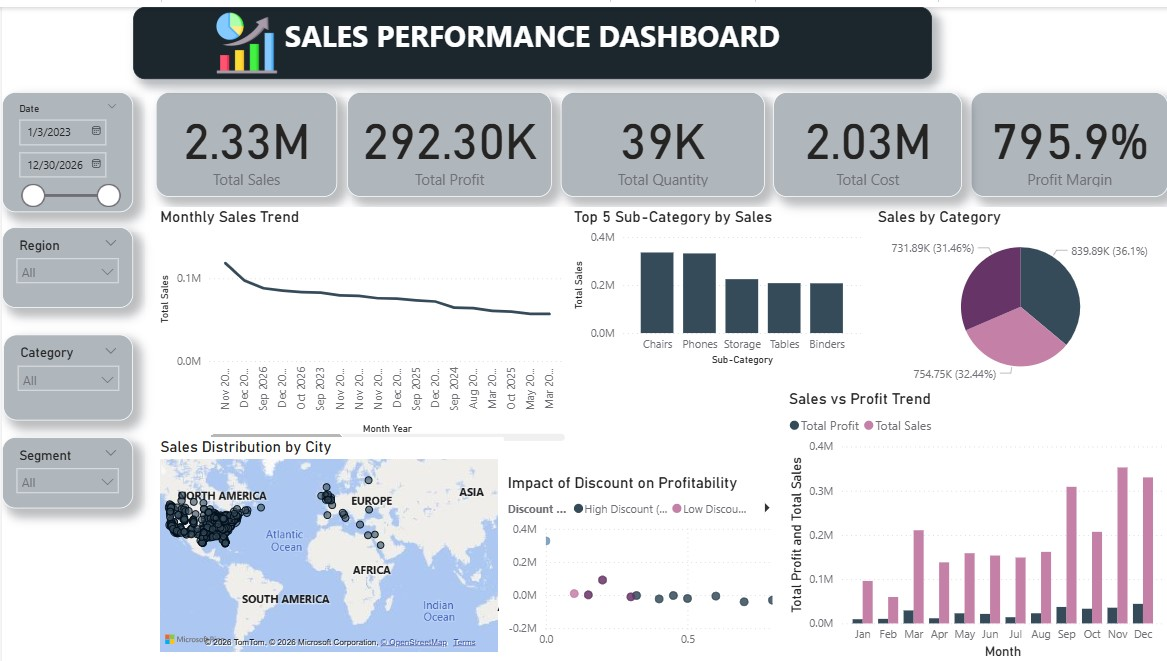

This screenshot's page, from the dashboard's own definition file:
{"tool":"powerbi","page":{"name":"Page 1","canvas":[1280,720],"ordinal":0},"visuals":[{"type":"card","fields":{"Values":["samplesuperstore (2).Total Sales"]},"box":[168.8,93.3,199,115.3],"z":0},{"type":"card","fields":{"Values":["samplesuperstore (2).Total Profit"]},"box":[378.7,93.3,225,115.3],"z":1000},{"type":"card","fields":{"Values":["Sales Data.Total Quantity"]},"box":[613.4,93.3,223.7,115.3],"z":2000},{"type":"card","fields":{"Values":["samplesuperstore (2).Profi Margin"]},"box":[1063.5,93.3,216.8,115.3],"z":3000},{"type":"pieChart","title":"Sales by Category","fields":{"Category":["samplesuperstore (2).Category"],"Y":["samplesuperstore (2).Total Sales"]},"box":[956.4,219.6,323.8,200.3],"z":4000},{"type":"lineChart","title":"Monthly Sales Trend","fields":{"Category":["Date Table.Month Year"],"Y":["samplesuperstore (2).Total Sales"]},"box":[168.8,219.6,454.2,262.1],"z":5000},{"type":"textbox","box":[144.1,0,876.8,79.6],"z":6000},{"type":"slicer","fields":{"Values":["samplesuperstore (2).Order Date"]},"box":[0,93.3,144.1,131.7],"z":7000},{"type":"image","box":[215.4,0,107,79.6],"z":8000},{"type":"slicer","fields":{"Values":["samplesuperstore (2).Region"]},"box":[0,241.5,144.1,89.2],"z":9000},{"type":"slicer","fields":{"Values":["samplesuperstore (2).Category"]},"box":[1.4,359.5,142.7,94.7],"z":10000},{"type":"slicer","fields":{"Values":["samplesuperstore (2).Segment"]},"box":[0,472,144.1,78.2],"z":11000},{"type":"clusteredColumnChart","title":"Top 5 Sub-Category by Sales","fields":{"Category":["samplesuperstore (2).Sub-Category"],"Y":["samplesuperstore (2).Total Sales"]},"box":[623,219.6,325.2,178.4],"z":12000},{"type":"map","title":"Sales Distribution by City","fields":{"Size":["samplesuperstore (2).Total Profit"],"Category":["samplesuperstore (2).City"]},"box":[168.6,471.4,381.4,241.4],"z":13000},{"type":"card","fields":{"Values":["Sales Data.Total Cost"]},"box":[846.7,93.3,207.2,115.3],"z":14000},{"type":"clusteredColumnChart","title":"Sales vs Profit Trend","fields":{"Category":["Date Table.Month"],"Y":["Sales Data.Total Profit","Sales Data.Total Sales"]},"box":[859,419.9,421.3,300.5],"z":15000},{"type":"scatterChart","title":"Impact of Discount on Profitability","fields":{"X":["Sales Data.Discount"],"Series":["Sales Data.Discount Group"],"Y":["Sales Data.Total Profit"]},"box":[550.3,511.8,308.7,200.3],"z":16000}]}

Visuals, with their boxes in screenshot pixels (x1, y1, x2, y2), scaled from the page's 1280x720 canvas onto the 1167x661 screenshot:
card - samplesuperstore (2).Total Sales: left=154, top=86, right=335, bottom=192
card - samplesuperstore (2).Total Profit: left=345, top=86, right=550, bottom=192
card - Sales Data.Total Quantity: left=559, top=86, right=763, bottom=192
card - samplesuperstore (2).Profi Margin: left=970, top=86, right=1166, bottom=192
"Sales by Category" pieChart: left=872, top=202, right=1166, bottom=385
"Monthly Sales Trend" lineChart: left=154, top=202, right=568, bottom=442
textbox: left=131, top=0, right=931, bottom=73
slicer - samplesuperstore (2).Order Date: left=0, top=86, right=131, bottom=207
image: left=196, top=0, right=294, bottom=73
slicer - samplesuperstore (2).Region: left=0, top=222, right=131, bottom=304
slicer - samplesuperstore (2).Category: left=1, top=330, right=131, bottom=417
slicer - samplesuperstore (2).Segment: left=0, top=433, right=131, bottom=505
"Top 5 Sub-Category by Sales" clusteredColumnChart: left=568, top=202, right=864, bottom=365
"Sales Distribution by City" map: left=154, top=433, right=501, bottom=654
card - Sales Data.Total Cost: left=772, top=86, right=961, bottom=192
"Sales vs Profit Trend" clusteredColumnChart: left=783, top=385, right=1166, bottom=660
"Impact of Discount on Profitability" scatterChart: left=502, top=470, right=783, bottom=654
